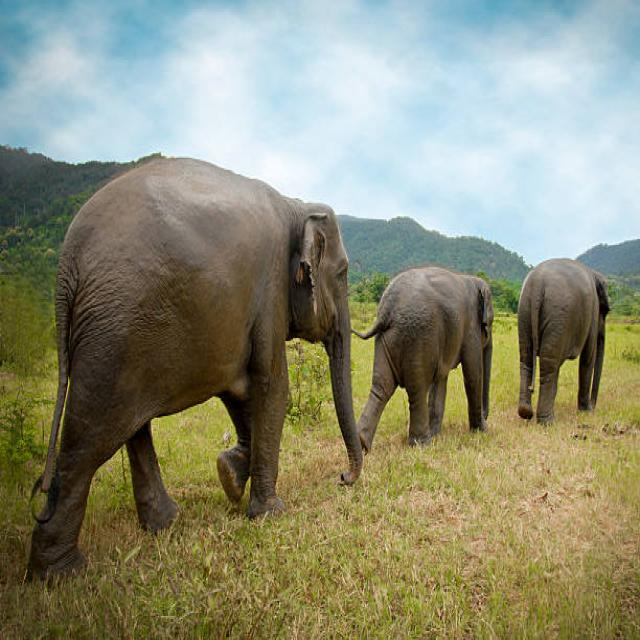Elephant: (25, 151, 368, 558), (373, 265, 498, 436), (517, 260, 624, 421)
